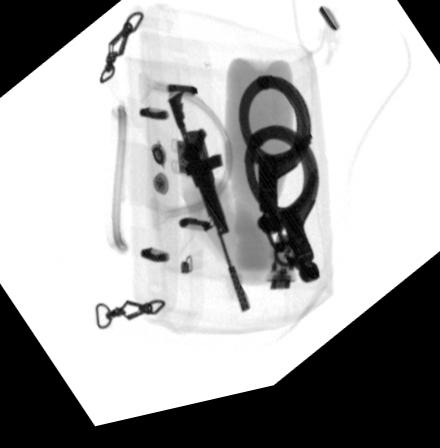Gun: (164, 99, 251, 329)
HandCuffs: (236, 85, 321, 300)
